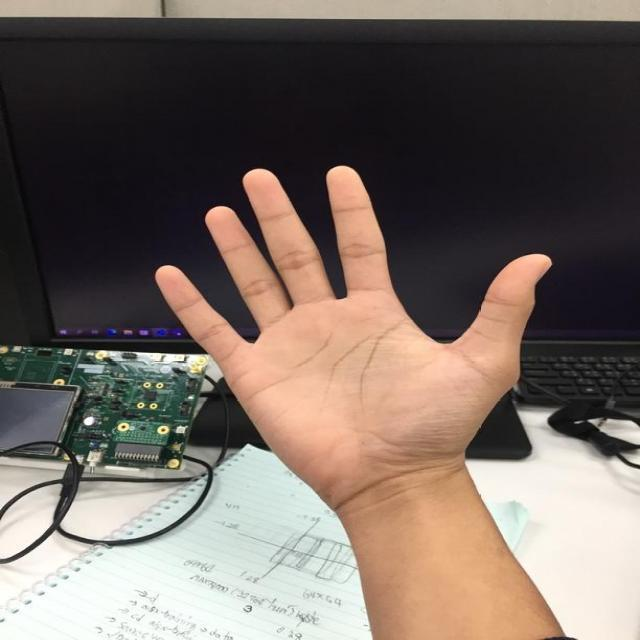no-gloves: (148, 160, 556, 490)
